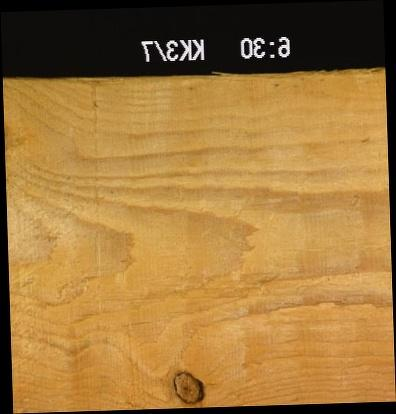wave: (103, 70, 385, 99)
